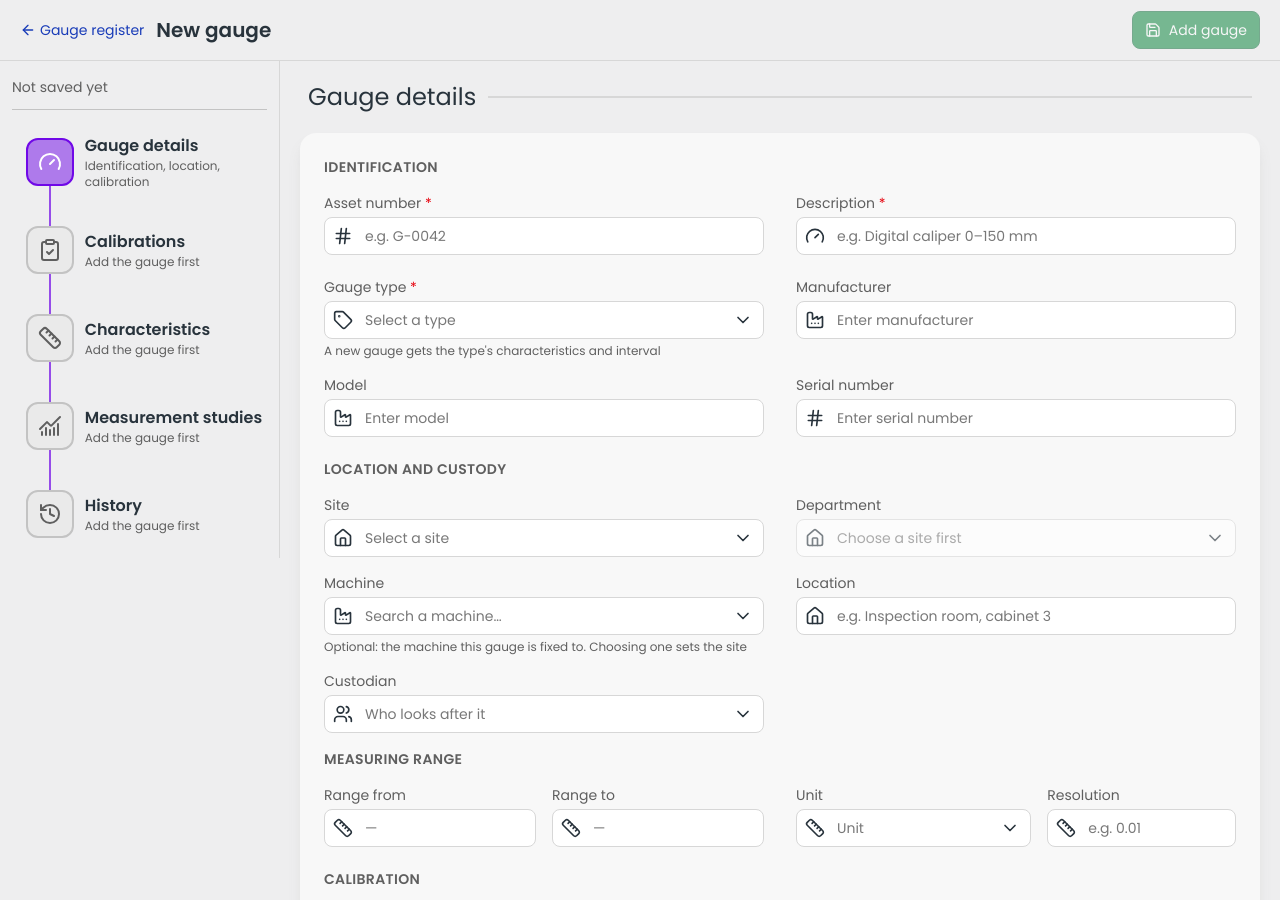
Test: gauge page › needs a gauge type: marked required, and Add gauge waits for one
Type "G-010" into the field labelled "Asset number" at (544, 236), box [365, 218, 723, 254]
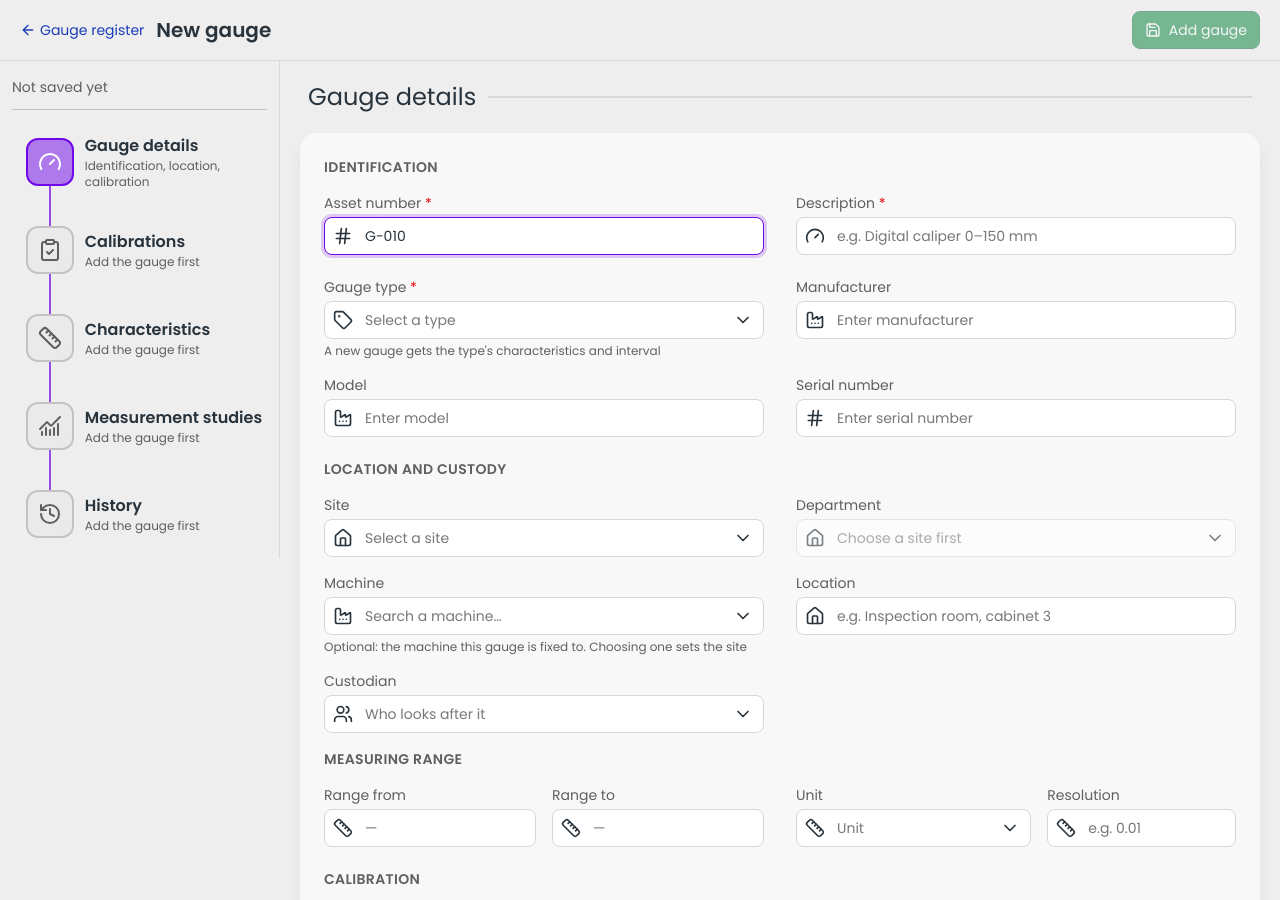
Type "Depth gauge" into the field labelled "Description" at (1016, 236), box [837, 218, 1195, 254]
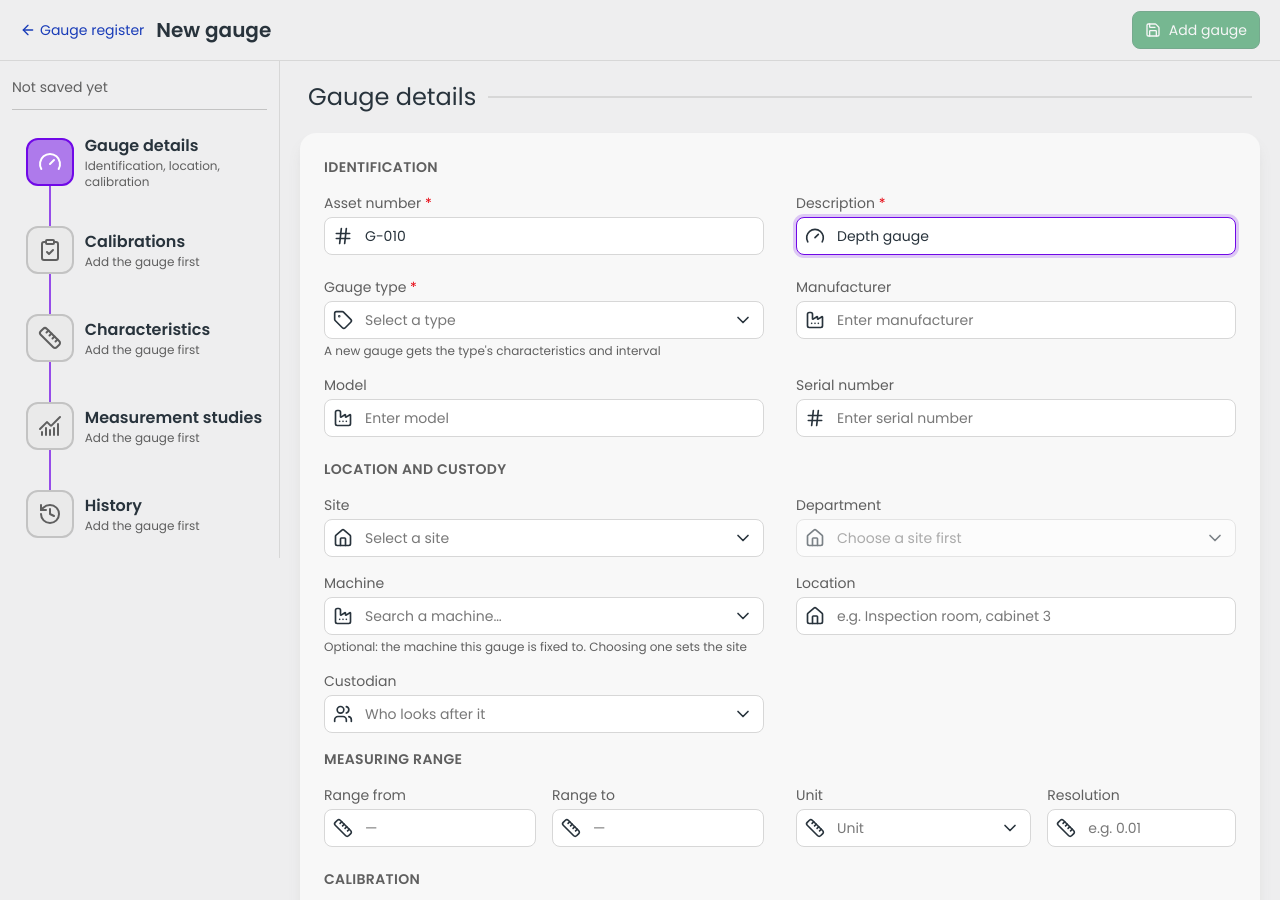
expect the button "Add gauge" is disabled: met, box [1132, 11, 1260, 49]
Click the dropdown labelled "Gauge type" at (542, 320), box [365, 310, 719, 330]
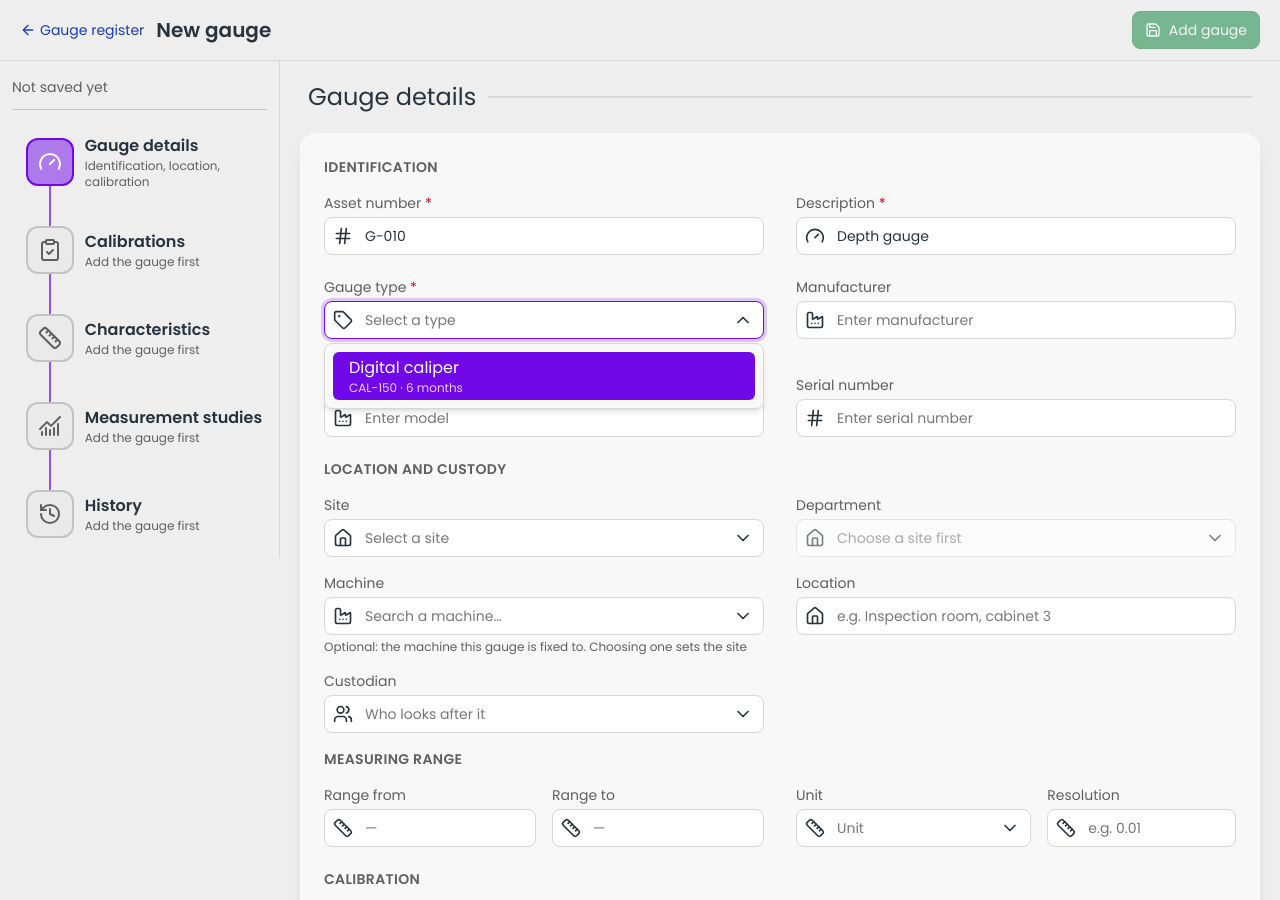
Click the option "Digital caliper CAL-150 · 6 months" at (544, 376), box [325, 348, 763, 404]
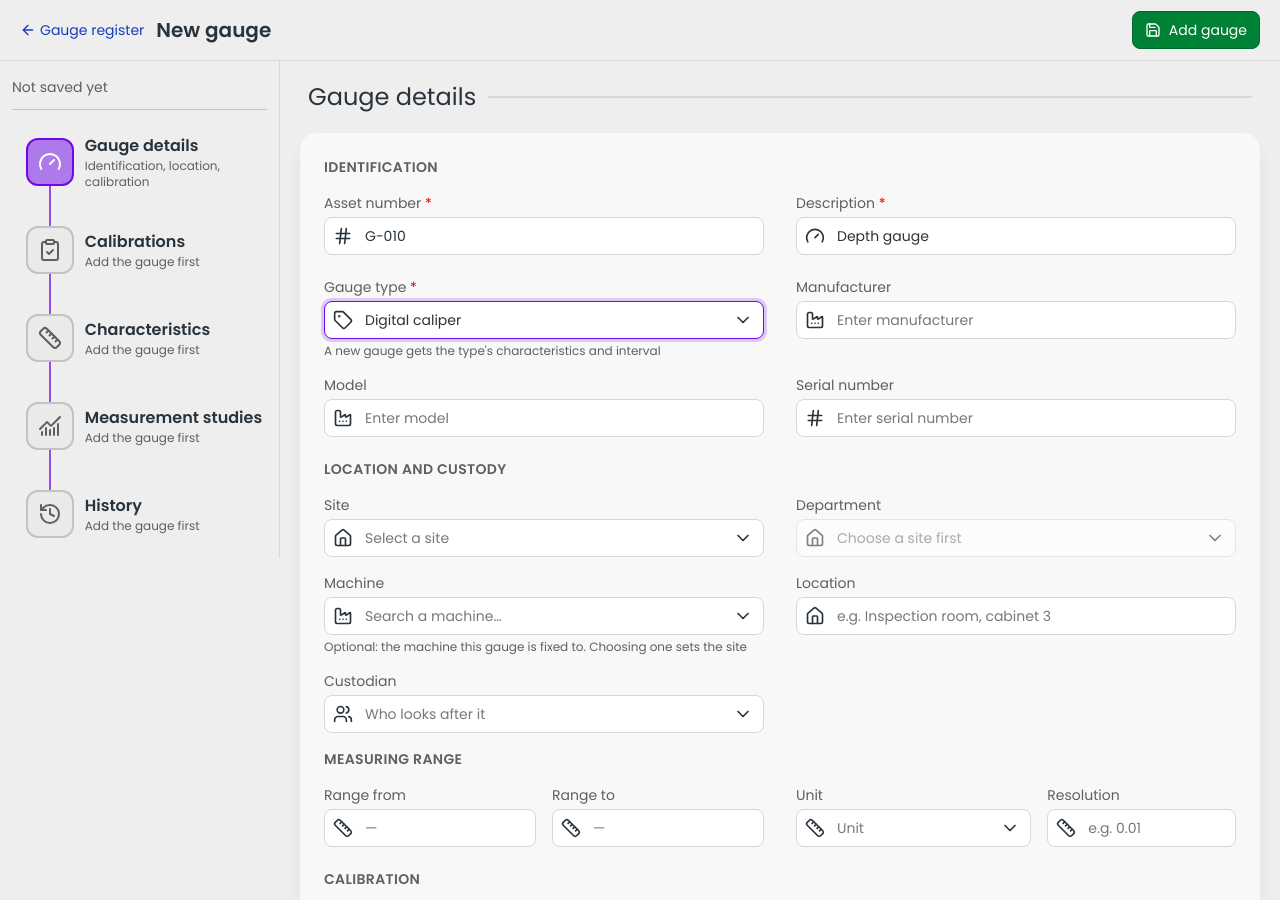
expect the button "Add gauge" is enabled: met, box [1132, 11, 1260, 49]
